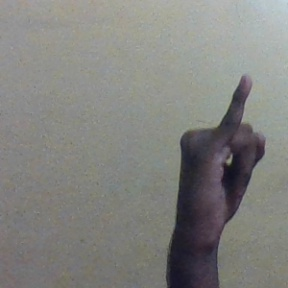I: (175, 74, 271, 233)
